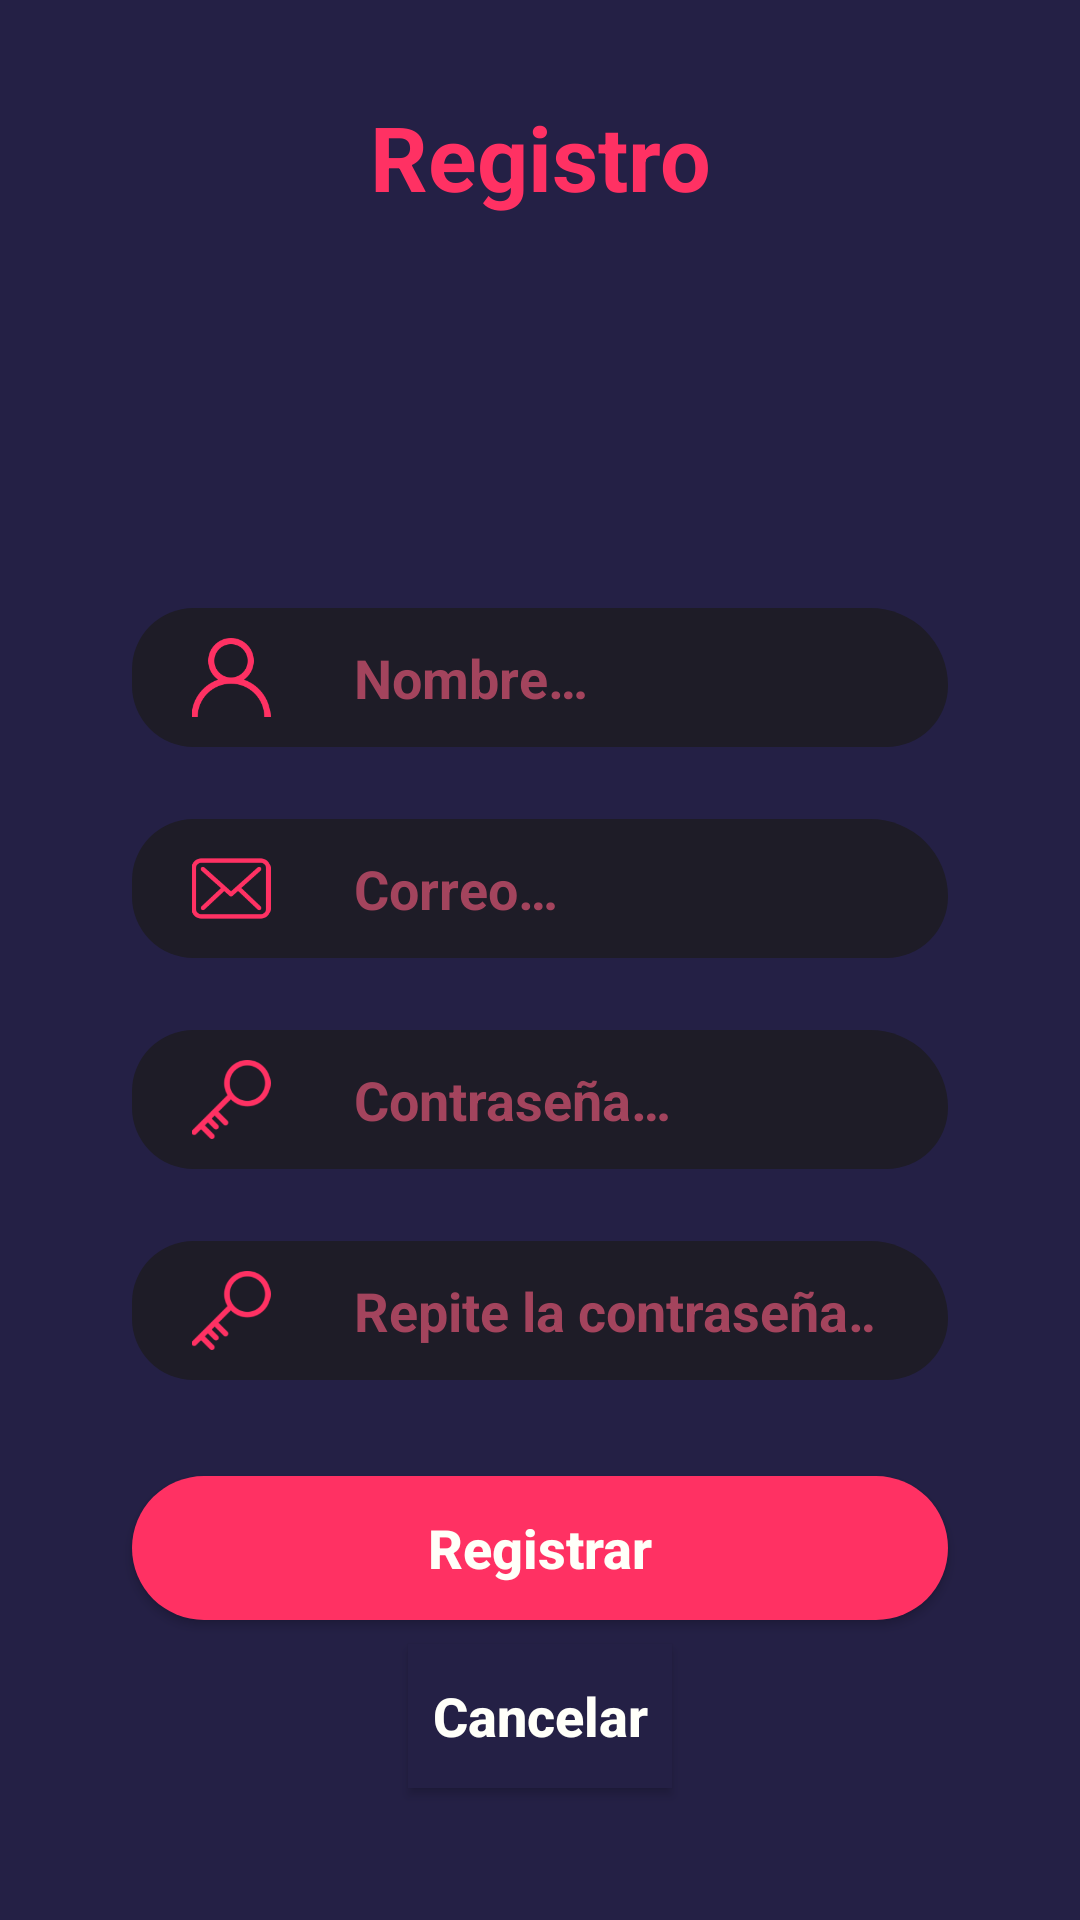

Point at icon controls on the screen. Image size 1080w x 1920h, points as (x=x, y=y).
key: (x=231, y=1099), (x=231, y=1310)
user: (x=231, y=677)
